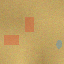person: (56, 39, 62, 48)
vehicle: (3, 34, 18, 44), (25, 17, 34, 32)
